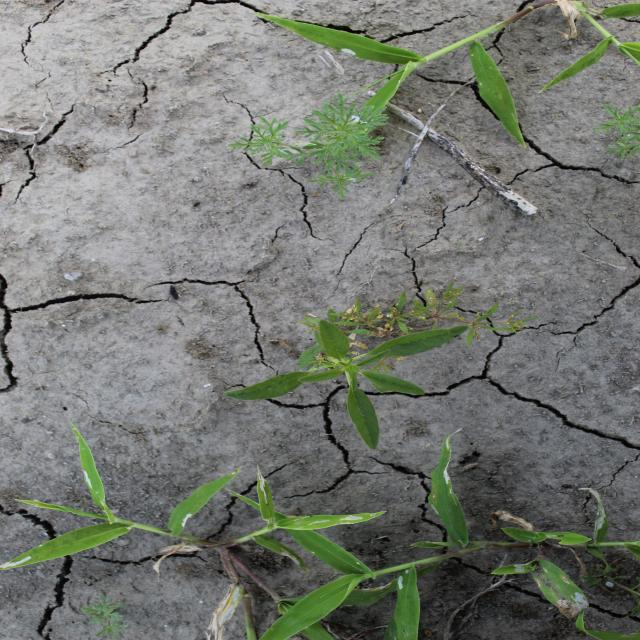Carpetweed: (298, 281, 541, 374)
Ragweed: (226, 91, 392, 203), (593, 102, 638, 162), (80, 594, 130, 639)
Waterhemp: (221, 318, 468, 451)
